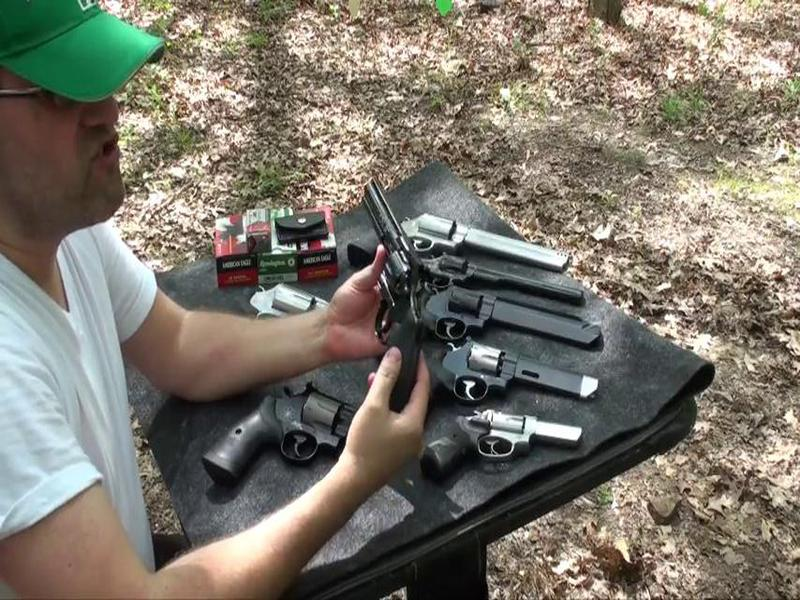Revolver: (320, 167, 456, 414)
